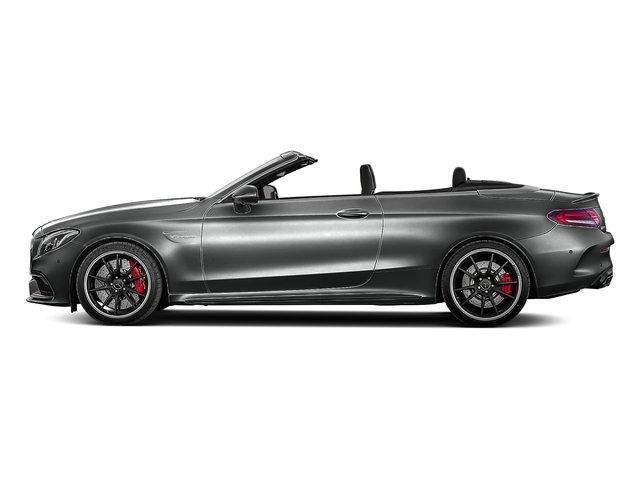C63AMG: (19, 148, 617, 340)
